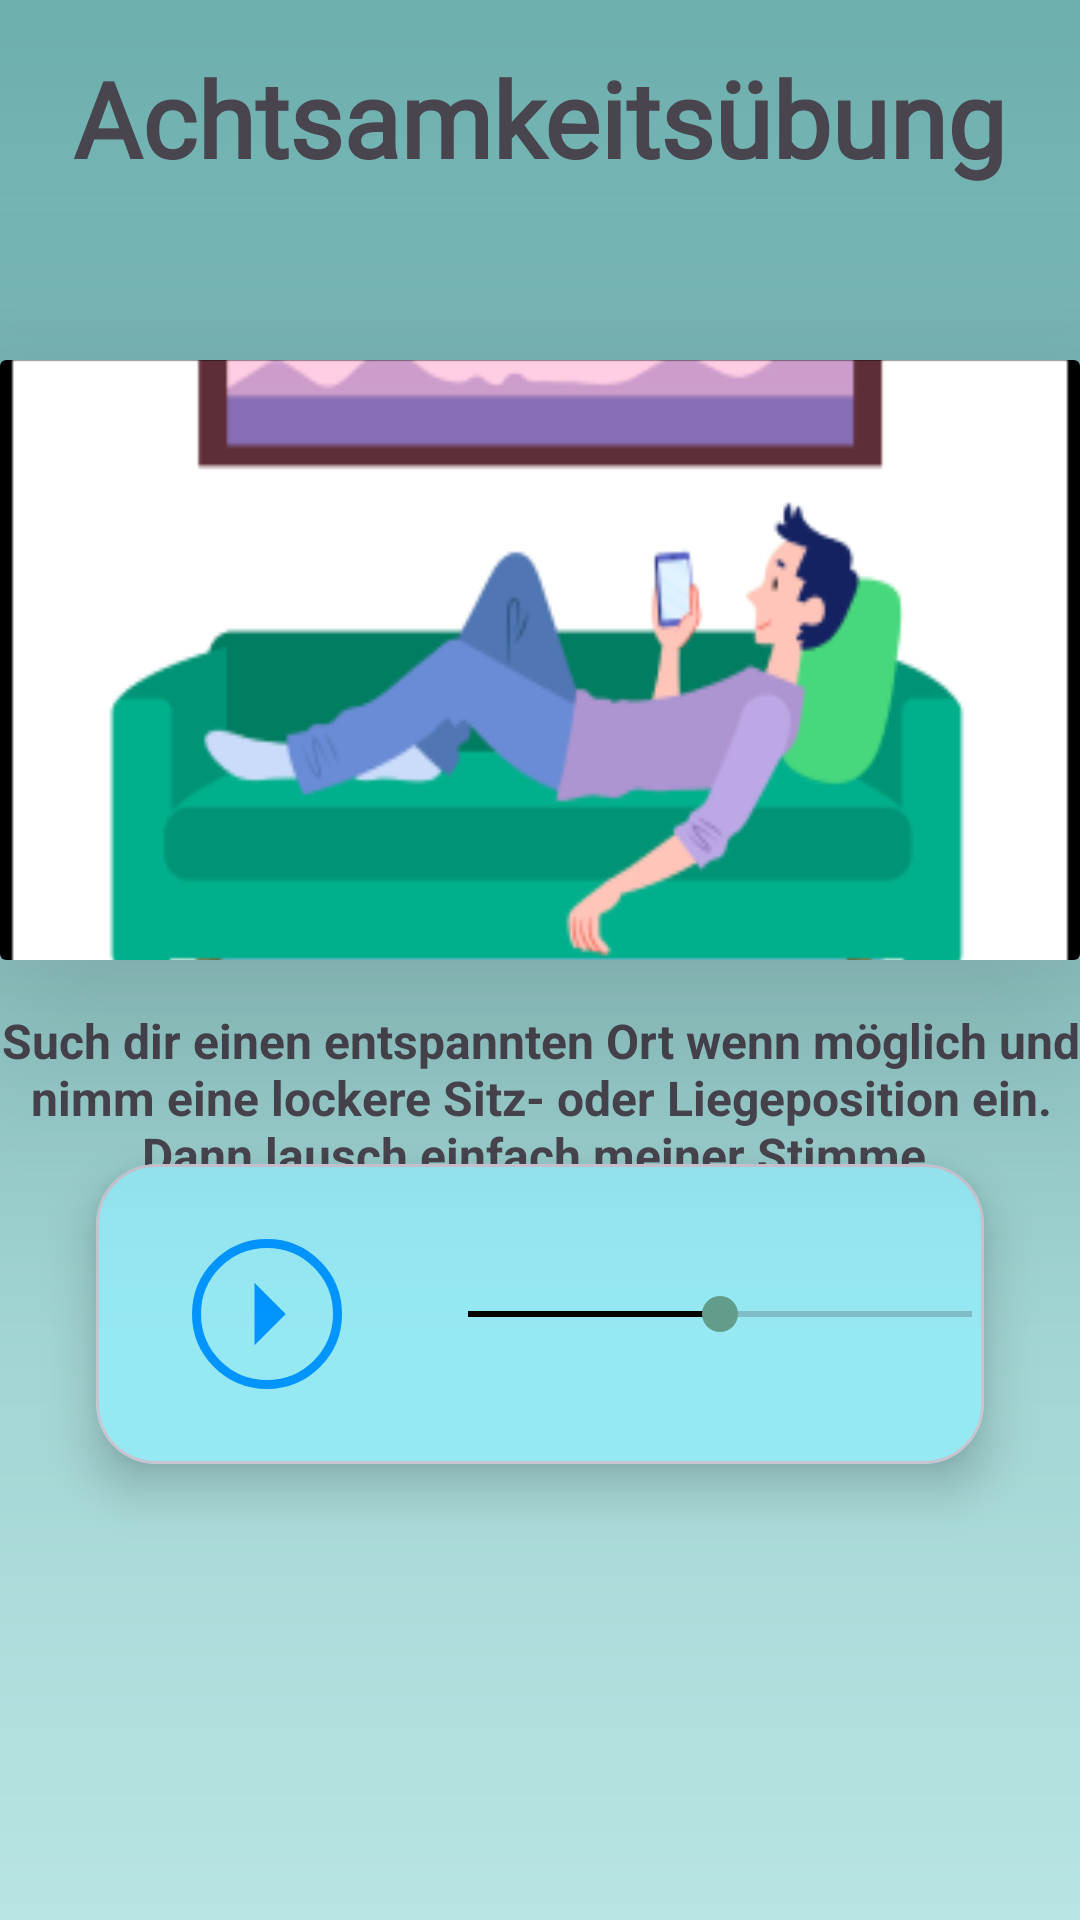

Icon bounding boxes for this 1080px x 1920px phone screenshot, format rect(x1, y1, x2, y2):
play: rect(192, 1239, 342, 1389)
